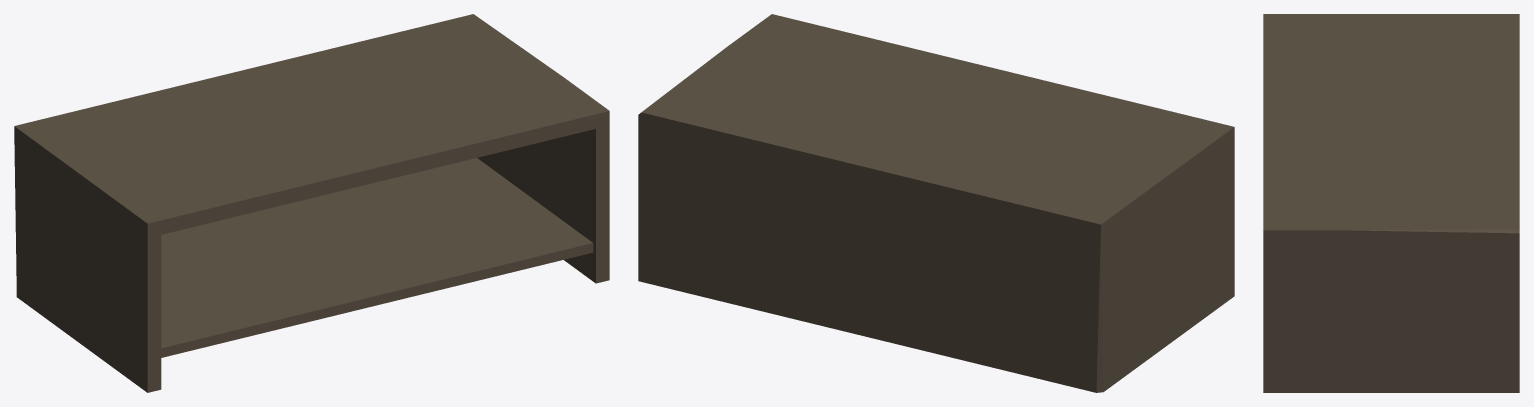
Rendered from SM_Props_Interior_House_Room_Coffee_Table_06.fbx.
The picture shows the model from 3 angles, left to right: view 1: azimuth 30°, elevation 25°; view 2: azimuth 150°, elevation 25°; view 3: azimuth 270°, elevation 25°; orthographic projection. The views are drawn at different scales.
Visible parts, largest first — view 1: SM_Props_Interior_House_Room_Coffee_Table_06; view 2: SM_Props_Interior_House_Room_Coffee_Table_06; view 3: SM_Props_Interior_House_Room_Coffee_Table_06.
Part boxes in pixels (box(x1,y1,x2,y2)): SM_Props_Interior_House_Room_Coffee_Table_06: box(14, 14, 609, 392); SM_Props_Interior_House_Room_Coffee_Table_06: box(638, 14, 1234, 392); SM_Props_Interior_House_Room_Coffee_Table_06: box(1263, 14, 1519, 392).
Size of the model in its own units: 100 by 35 by 50.
